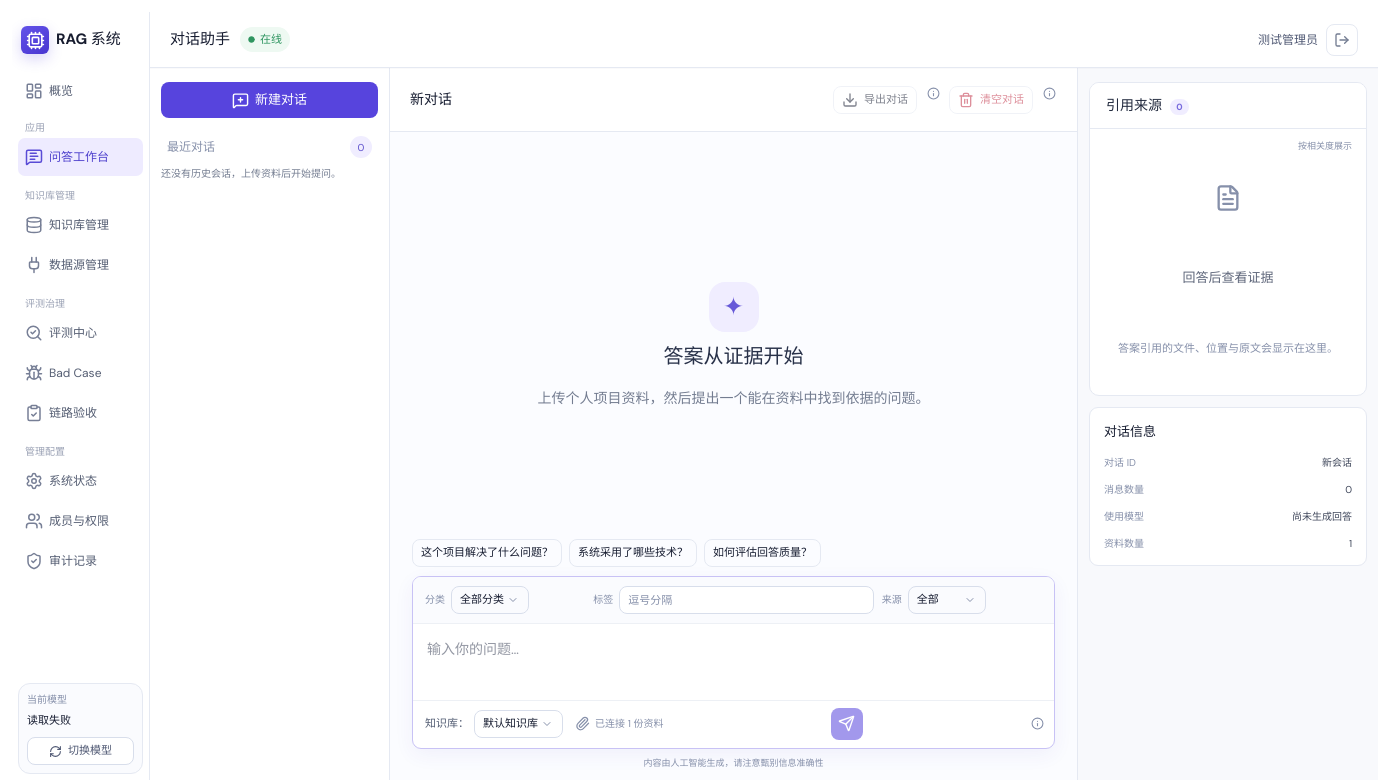
Test: 引用按知识库与 Web 分区，Web 卡片给域名、抓取时间和外链
Type "最新索引版本是什么？" into the text box named "向知识库提问" at {"x": 734, "y": 658}, box [413,624,1054,694]
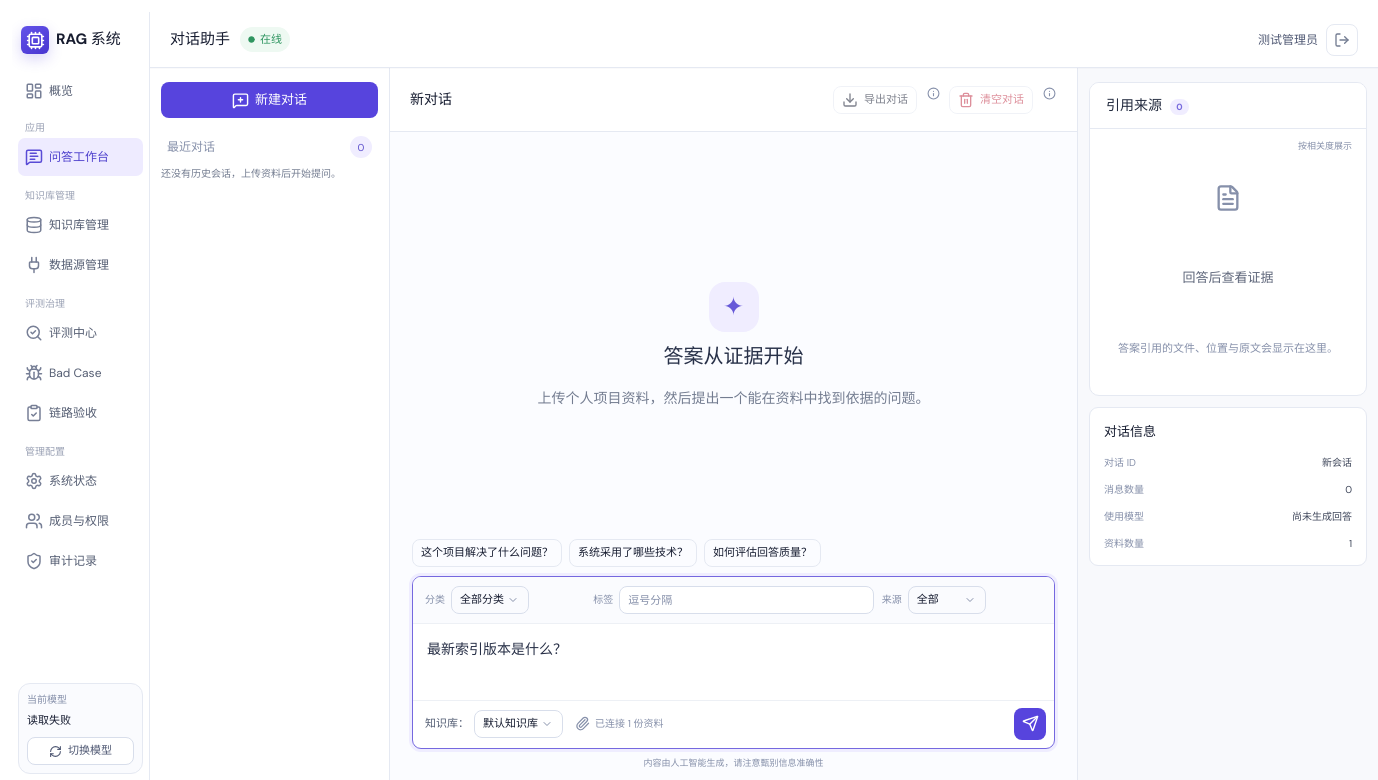
Click the button named "提问" at {"x": 1030, "y": 724}, box [1014,708,1046,740]
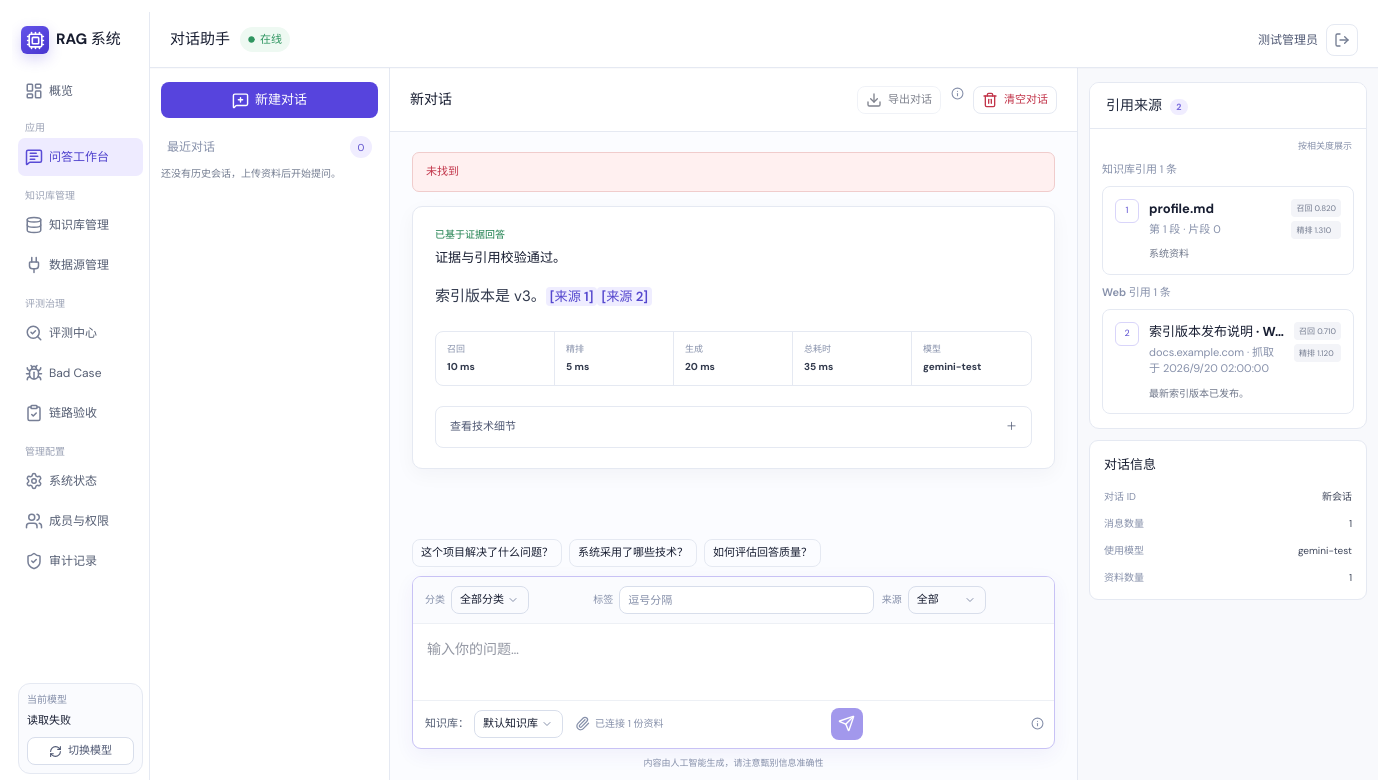
Check: the text "profile.md" is shown, box [1149,200,1214,217]
Check: the text "索引版本发布说明 · Web" is shown, box [1149,322,1284,342]
Check: the text "docs.example.com · 抓取于 2026/9/20 02:00:00" is shown, box [1149,344,1284,376]
